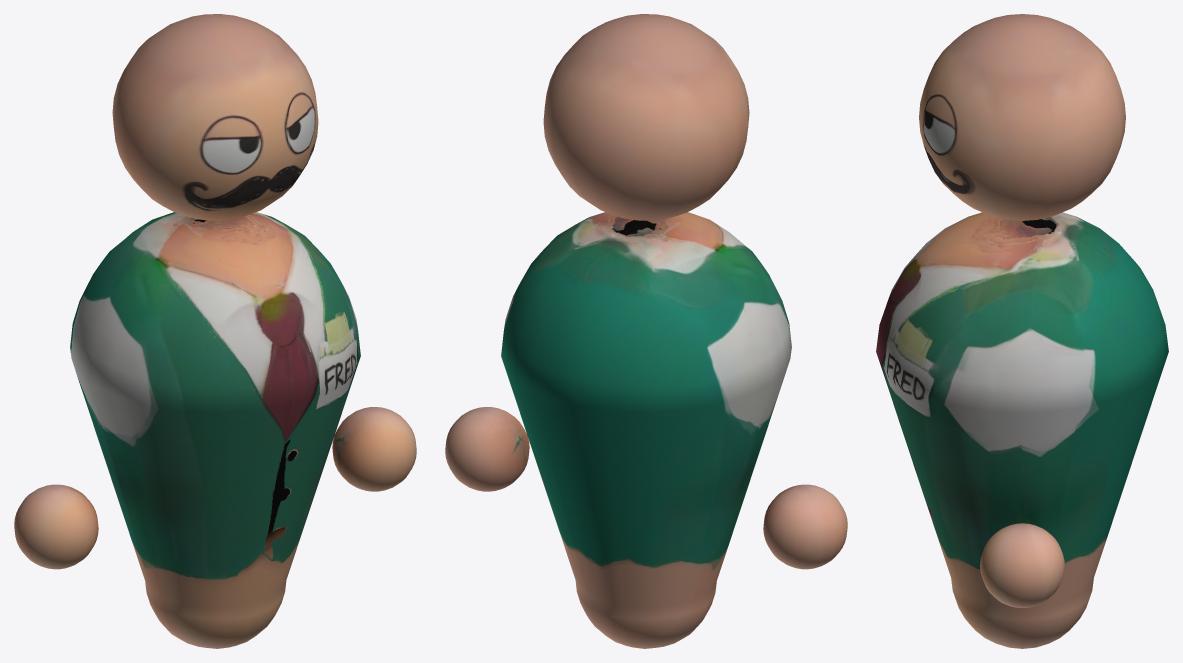
The model's file is CH_Hero.fbx.
The picture shows the model from 3 angles, left to right: view 1: azimuth 30°, elevation 25°; view 2: azimuth 150°, elevation 25°; view 3: azimuth 270°, elevation 25°; orthographic projection.
Parts seen in each view (by area): view 1: Body, Head, Hand_L, Hand_R; view 2: Body, Head, Hand_L, Hand_R; view 3: Body, Head, Hand_L.
Part boxes in pixels (<box>): Body: <box>70,212,360,648</box>; Head: <box>112,14,318,220</box>; Hand_L: <box>332,407,416,491</box>; Hand_R: <box>14,484,98,569</box>; Body: <box>501,212,791,648</box>; Head: <box>543,14,749,220</box>; Hand_L: <box>445,407,529,491</box>; Hand_R: <box>763,484,847,569</box>; Body: <box>876,212,1168,648</box>; Head: <box>919,14,1125,220</box>; Hand_L: <box>980,523,1064,607</box>.
Size of the model in its own units: 179 by 270 by 116.
Materials: 1 (1 with a texture image).
